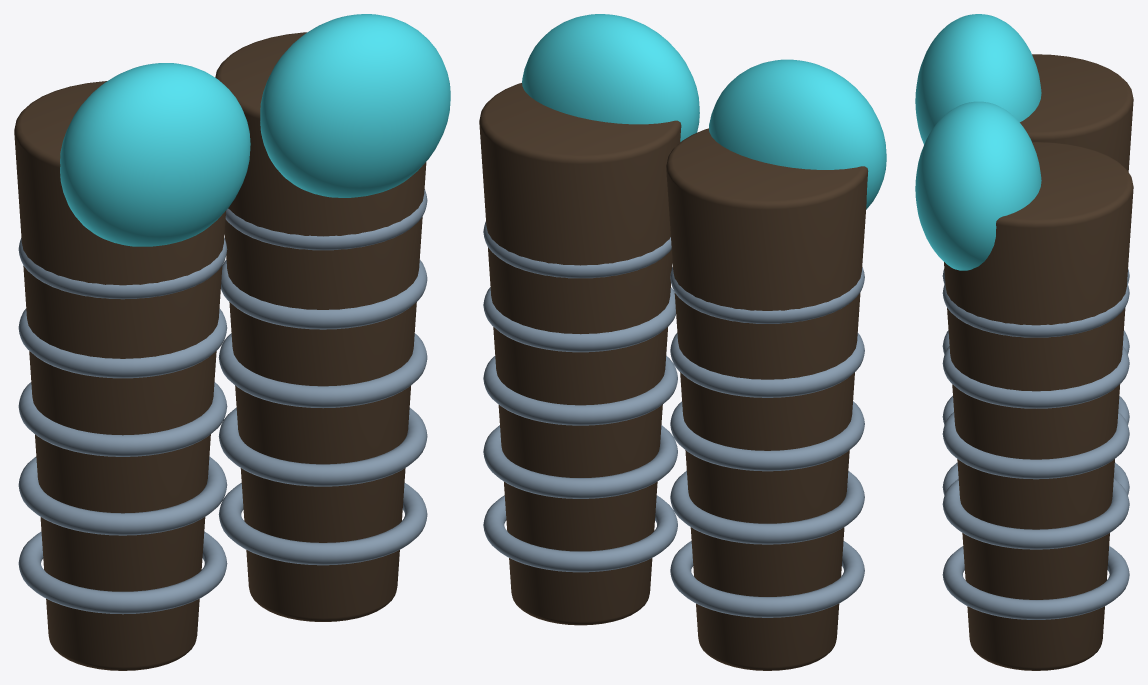
File: greaves_v3.glb
3 renders of one model, left to right at view 1: azimuth 30°, elevation 25°; view 2: azimuth 150°, elevation 25°; view 3: azimuth 270°, elevation 25°, orthographic. The views are drawn at different scales.
Visible parts, largest first — view 1: FIELD_GREAVE_SECONDARY, FIELD_GREAVE_SECONDARY.001, ROUND_KNEE_ACCENT.001, ROUND_KNEE_ACCENT, WRAP_PRIMARY, WRAP_PRIMARY.005, WRAP_PRIMARY.001, WRAP_PRIMARY.006, WRAP_PRIMARY.007, WRAP_PRIMARY.002, WRAP_PRIMARY.003, WRAP_PRIMARY.008 (+2 smaller); view 2: FIELD_GREAVE_SECONDARY, FIELD_GREAVE_SECONDARY.001, ROUND_KNEE_ACCENT, ROUND_KNEE_ACCENT.001, WRAP_PRIMARY.005, WRAP_PRIMARY, WRAP_PRIMARY.001, WRAP_PRIMARY.006, WRAP_PRIMARY.002, WRAP_PRIMARY.007, WRAP_PRIMARY.003, WRAP_PRIMARY.008 (+2 smaller); view 3: FIELD_GREAVE_SECONDARY.001, ROUND_KNEE_ACCENT.001, ROUND_KNEE_ACCENT, FIELD_GREAVE_SECONDARY, WRAP_PRIMARY.005, WRAP_PRIMARY.006, WRAP_PRIMARY.007, WRAP_PRIMARY.008, WRAP_PRIMARY.009, WRAP_PRIMARY, WRAP_PRIMARY.001.
Boxes of the visible parts, x1=… form: FIELD_GREAVE_SECONDARY: x1=14, y1=81, x2=226, y2=670; FIELD_GREAVE_SECONDARY.001: x1=215, y1=32, x2=426, y2=621; ROUND_KNEE_ACCENT.001: x1=260, y1=14, x2=450, y2=197; ROUND_KNEE_ACCENT: x1=60, y1=63, x2=250, y2=246; WRAP_PRIMARY: x1=18, y1=531, x2=227, y2=614; WRAP_PRIMARY.005: x1=218, y1=483, x2=427, y2=565; WRAP_PRIMARY.001: x1=18, y1=456, x2=227, y2=535; WRAP_PRIMARY.006: x1=218, y1=407, x2=427, y2=486; WRAP_PRIMARY.007: x1=218, y1=333, x2=427, y2=408; WRAP_PRIMARY.002: x1=18, y1=382, x2=227, y2=456; WRAP_PRIMARY.003: x1=18, y1=308, x2=227, y2=378; WRAP_PRIMARY.008: x1=221, y1=259, x2=427, y2=329; FIELD_GREAVE_SECONDARY: x1=666, y1=128, x2=868, y2=670; FIELD_GREAVE_SECONDARY.001: x1=479, y1=83, x2=681, y2=625; ROUND_KNEE_ACCENT: x1=709, y1=59, x2=886, y2=209; ROUND_KNEE_ACCENT.001: x1=522, y1=14, x2=699, y2=141; WRAP_PRIMARY.005: x1=483, y1=495, x2=677, y2=572; WRAP_PRIMARY: x1=670, y1=541, x2=864, y2=617; WRAP_PRIMARY.001: x1=670, y1=470, x2=864, y2=544; WRAP_PRIMARY.006: x1=483, y1=425, x2=677, y2=498; WRAP_PRIMARY.002: x1=670, y1=401, x2=864, y2=471; WRAP_PRIMARY.007: x1=483, y1=356, x2=677, y2=425; WRAP_PRIMARY.003: x1=670, y1=332, x2=864, y2=397; WRAP_PRIMARY.008: x1=483, y1=287, x2=675, y2=352; FIELD_GREAVE_SECONDARY.001: x1=944, y1=142, x2=1133, y2=670; ROUND_KNEE_ACCENT.001: x1=915, y1=101, x2=1041, y2=270; ROUND_KNEE_ACCENT: x1=915, y1=14, x2=1041, y2=144; FIELD_GREAVE_SECONDARY: x1=1020, y1=54, x2=1133, y2=171; WRAP_PRIMARY.005: x1=942, y1=546, x2=1129, y2=619; WRAP_PRIMARY.006: x1=942, y1=479, x2=1129, y2=549; WRAP_PRIMARY.007: x1=942, y1=412, x2=1129, y2=479; WRAP_PRIMARY.008: x1=942, y1=346, x2=1129, y2=408; WRAP_PRIMARY.009: x1=942, y1=283, x2=1129, y2=337; WRAP_PRIMARY: x1=942, y1=462, x2=1129, y2=495; WRAP_PRIMARY.001: x1=942, y1=396, x2=1129, y2=424.
Bounding box in the file's own units: 1.4 × 2.05 × 0.7586.
